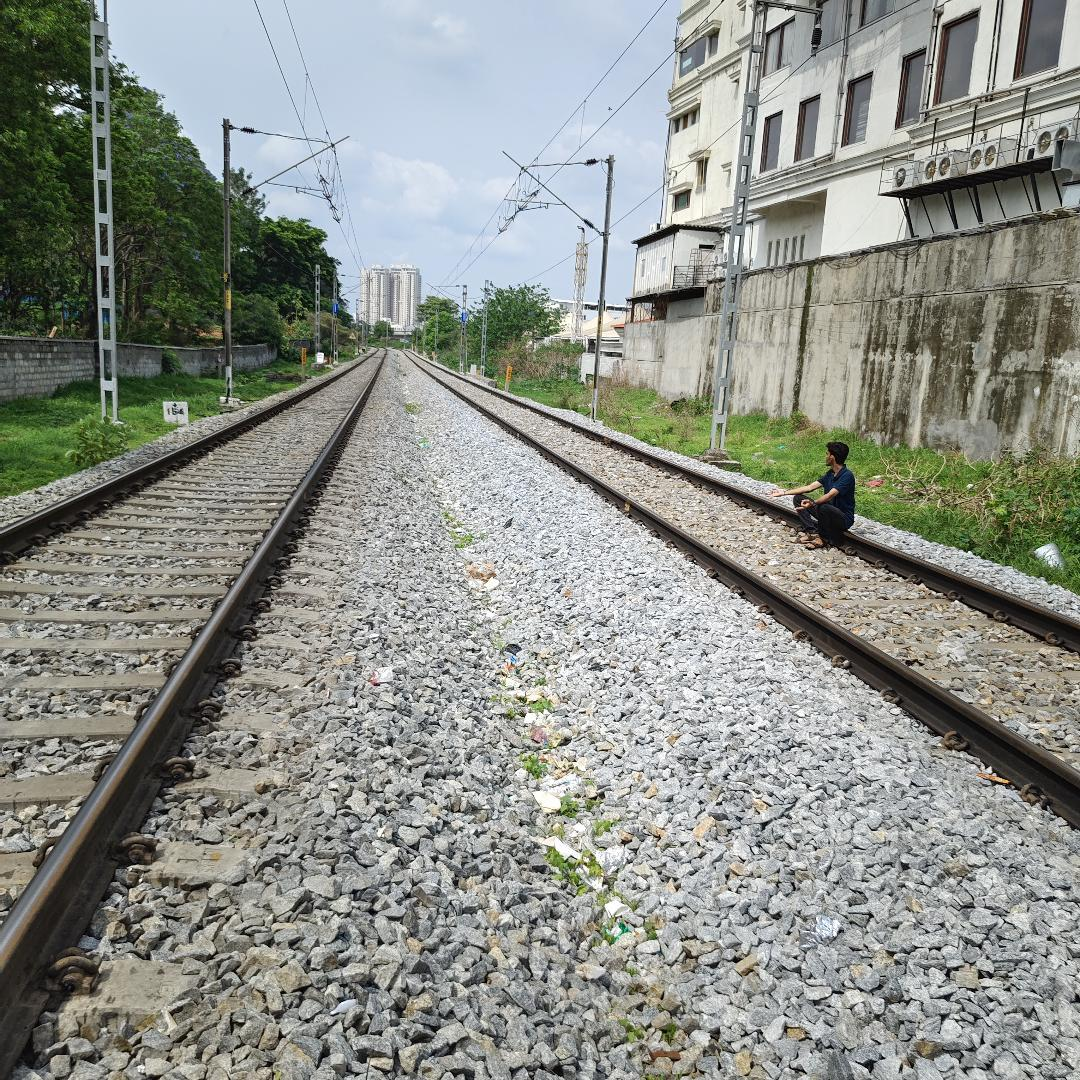sitting: (784, 430, 876, 554)
track: (413, 373, 1080, 908), (0, 352, 401, 1080)
